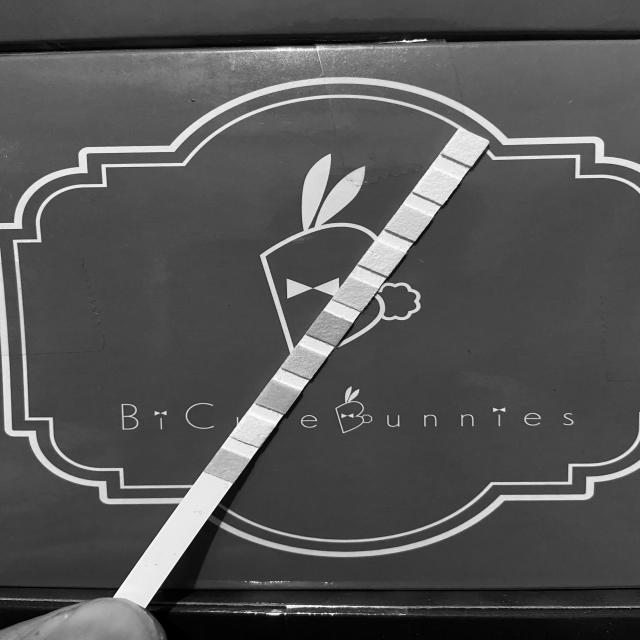Bilirubin: (240, 422, 264, 440)
Blood: (315, 321, 343, 337)
Glucose: (214, 456, 240, 476)
Ketone: (265, 387, 290, 405)
Leukocytes: (450, 139, 481, 156)
Nitrite: (422, 178, 450, 195)
Protein: (367, 251, 395, 267)
SpGravity: (290, 354, 318, 370)
Urobilinogen: (394, 215, 423, 231)
background: (0, 0, 640, 640)
pH: (341, 286, 369, 302)
strip: (121, 128, 490, 597)
